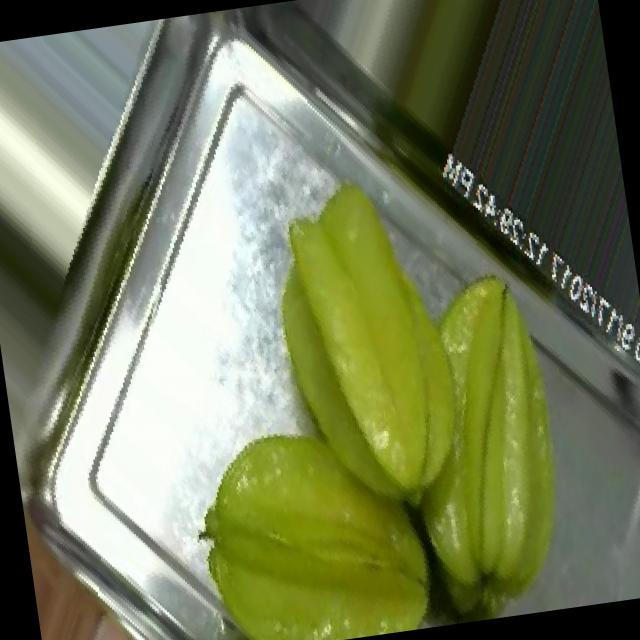fruit: (206, 127, 624, 568), (121, 372, 483, 640), (281, 0, 576, 184), (0, 27, 161, 345), (18, 460, 166, 640)
